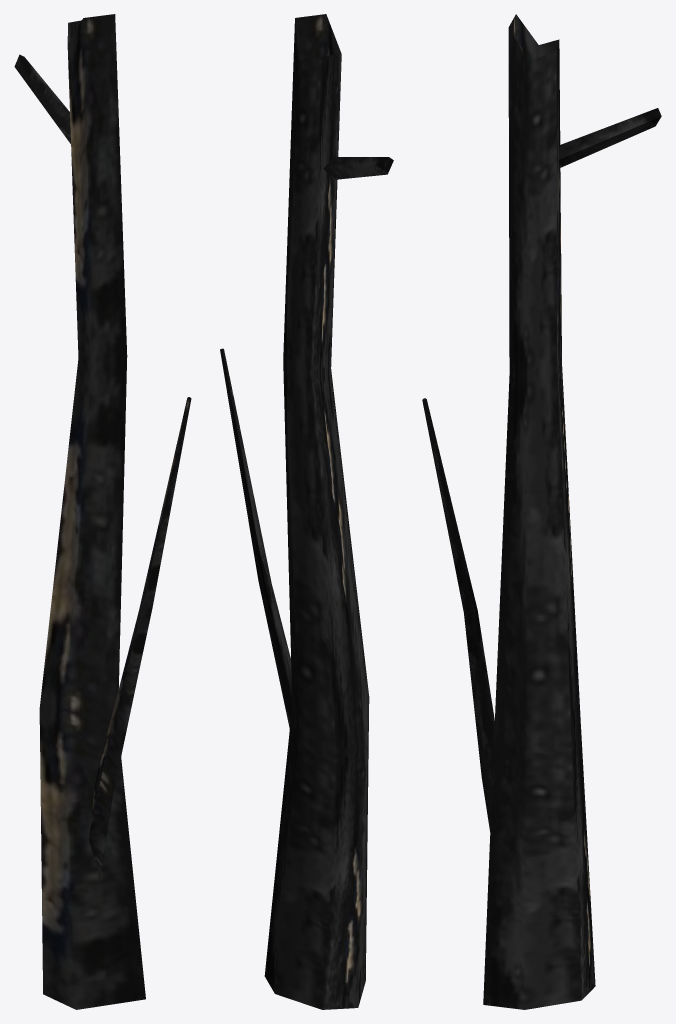
File: pir_m_prp_vol_treeDead_c.fbx
3 renders of one model, left to right at view 1: azimuth 30°, elevation 25°; view 2: azimuth 210°, elevation 25°; view 3: azimuth 270°, elevation 25°, orthographic.
Visible parts, largest first — view 1: lod_high; view 2: lod_high; view 3: lod_high.
Part boxes in pixels (x1,y1,x2,y2): lod_high: (14,14,191,1009); lod_high: (220,14,393,1009); lod_high: (422,14,661,1009).
Size of the model in its own units: 442 by 4498 by 1008.
1 material, 1 textured.
